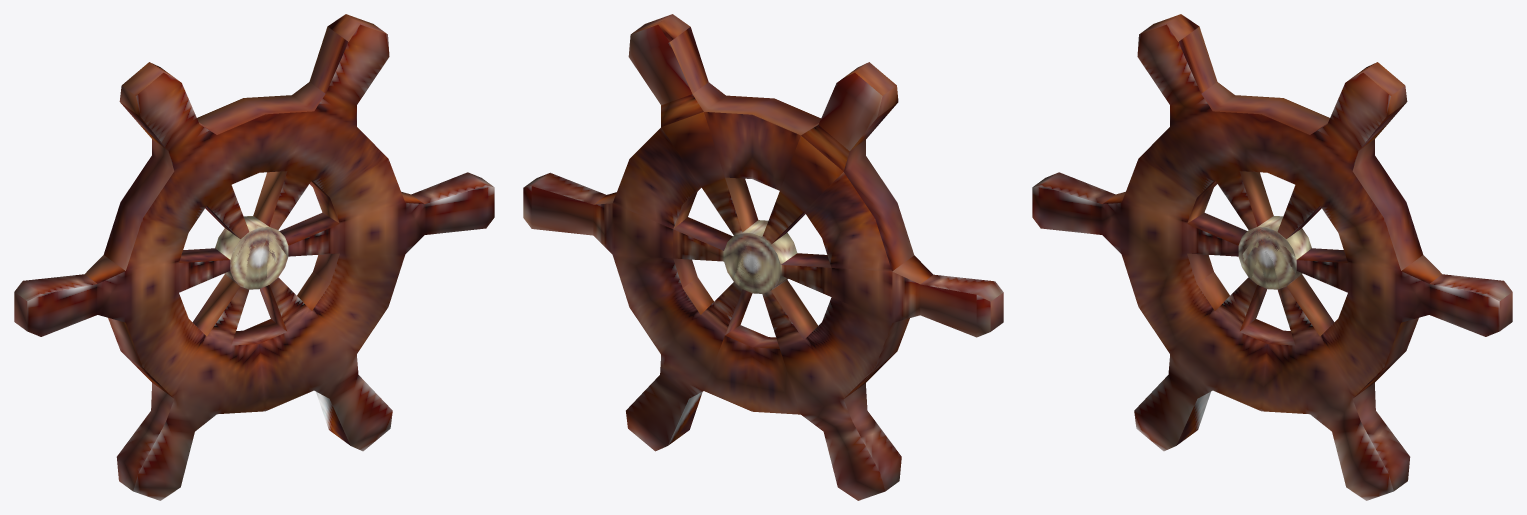
Rendered from SteerRight.fbx.
3 views of the same model, side by side, from view 1: azimuth 30°, elevation 25°; view 2: azimuth 150°, elevation 25°; view 3: azimuth 330°, elevation 25° (orthographic).
Visible parts, largest first — view 1: sTEER; view 2: sTEER; view 3: sTEER.
Boxes of the visible parts, left/top/right/bottom form: sTEER: left=14, top=14, right=494, bottom=500; sTEER: left=523, top=14, right=1003, bottom=500; sTEER: left=1032, top=14, right=1512, bottom=500.
Size of the model in its own units: 329 by 288 by 27.24.
